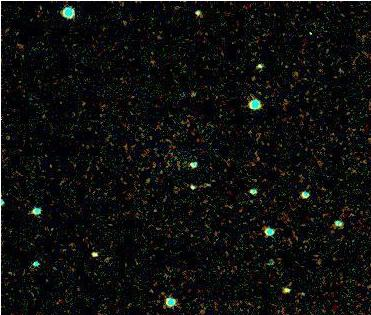star: (290, 19, 320, 49)
